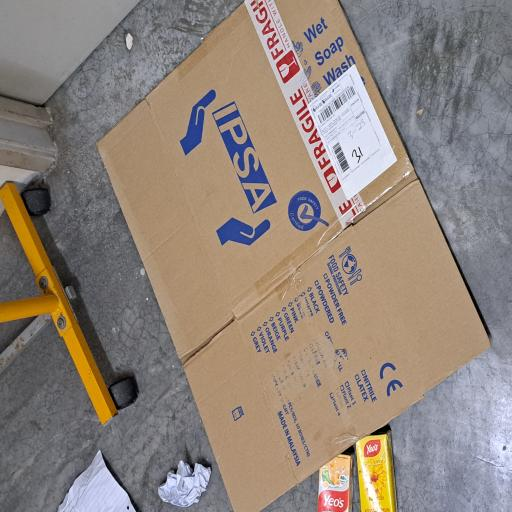cardboard: (0, 127, 384, 512)
drink carton: (0, 473, 60, 512), (0, 421, 43, 470)
paper: (0, 78, 48, 188), (4, 210, 41, 282)
